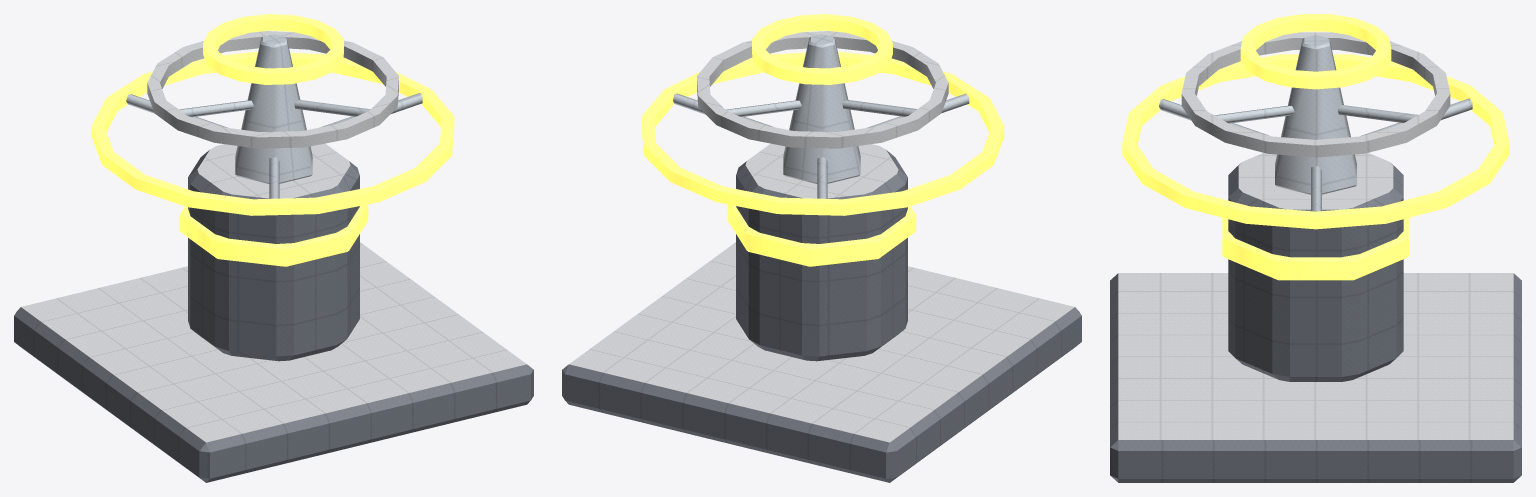
Rendered from R4X_SupportTurretDeployer_LOD1.glb.
3 views of the same model, side by side, from view 1: azimuth 30°, elevation 25°; view 2: azimuth 150°, elevation 25°; view 3: azimuth 270°, elevation 25° (orthographic). The views are drawn at different scales.
Visible parts, largest first — view 1: R4X_SupportTurretDeployer_LOD1; view 2: R4X_SupportTurretDeployer_LOD1; view 3: R4X_SupportTurretDeployer_LOD1.
Part boxes in pixels (x1,y1,x2,y2): R4X_SupportTurretDeployer_LOD1: (14, 14, 533, 482); R4X_SupportTurretDeployer_LOD1: (562, 14, 1081, 482); R4X_SupportTurretDeployer_LOD1: (1110, 14, 1521, 482).
Bounding box in the file's own units: 0.52 × 0.5 × 0.52.
4 materials, 3 textured.
